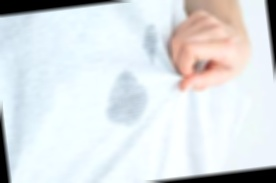oil: (109, 74, 151, 126), (134, 24, 170, 63)
